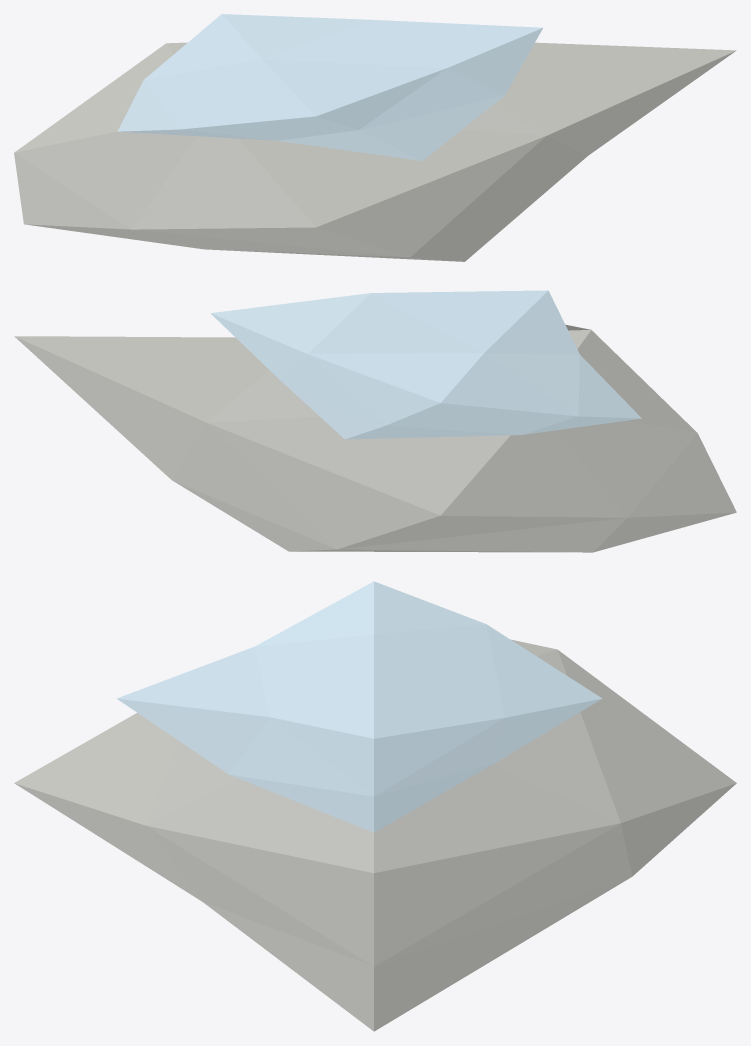
File: puddle_stone_v09.glb
The picture shows the model from 3 angles, top to bottom: view 1: azimuth 30°, elevation 25°; view 2: azimuth 150°, elevation 25°; view 3: azimuth 270°, elevation 25°; orthographic projection. The views are drawn at different scales.
Parts seen in each view (by area): view 1: lod0; view 2: lod0; view 3: lod0.
Part boxes in pixels (x1,y1,x2,y2): lod0: (14, 14, 736, 261); lod0: (14, 290, 736, 552); lod0: (14, 581, 736, 1031).
Size of what is drawn, in the model's own units: 0.7477 by 0.1708 by 0.5424.
